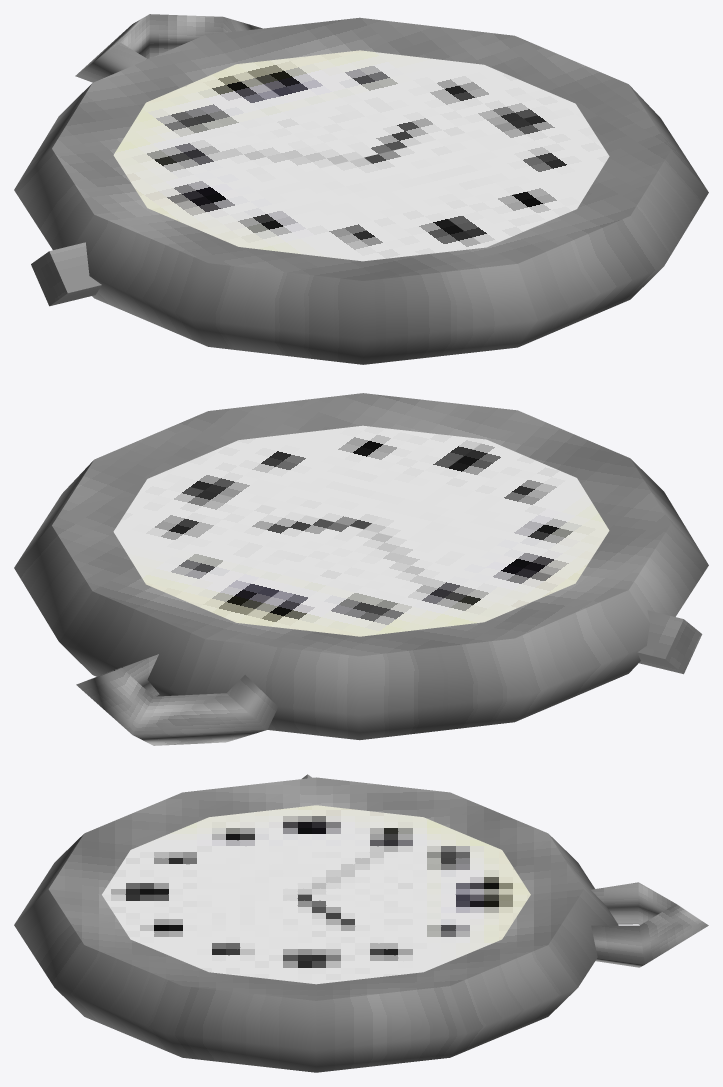
The model's file is watch.obj.
3 views of the same model, one above another, from view 1: azimuth 30°, elevation 25°; view 2: azimuth 150°, elevation 25°; view 3: azimuth 270°, elevation 25° (orthographic). The views are drawn at different scales.
Parts seen in each view (by area): view 1: Cylinder05, Cylinder02, Cylinder06, Box01; view 2: Cylinder05, Cylinder02, Cylinder06, Box01; view 3: Cylinder05, Cylinder02, Cylinder06.
Boxes of the visible parts, x1=… form: Cylinder05: x1=14, y1=17, x2=708, y2=364; Cylinder02: x1=113, y1=50, x2=609, y2=261; Cylinder06: x1=75, y1=14, x2=262, y2=82; Box01: x1=31, y1=242, x2=101, y2=306; Cylinder05: x1=14, y1=393, x2=708, y2=740; Cylinder02: x1=113, y1=425, x2=609, y2=636; Cylinder06: x1=76, y1=654, x2=278, y2=745; Box01: x1=637, y1=610, x2=702, y2=674; Cylinder05: x1=14, y1=777, x2=618, y2=1072; Cylinder02: x1=102, y1=805, x2=530, y2=984; Cylinder06: x1=591, y1=882, x2=708, y2=967.
Bounding box in the file's own units: 22.26 × 2.89 × 25.35.
